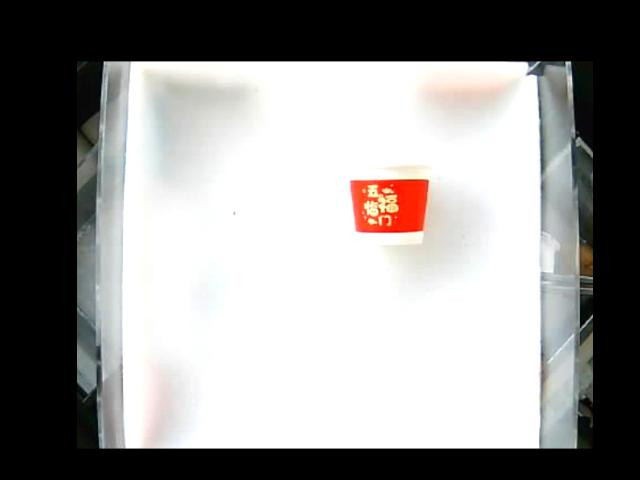Cup: (346, 156, 434, 246)
